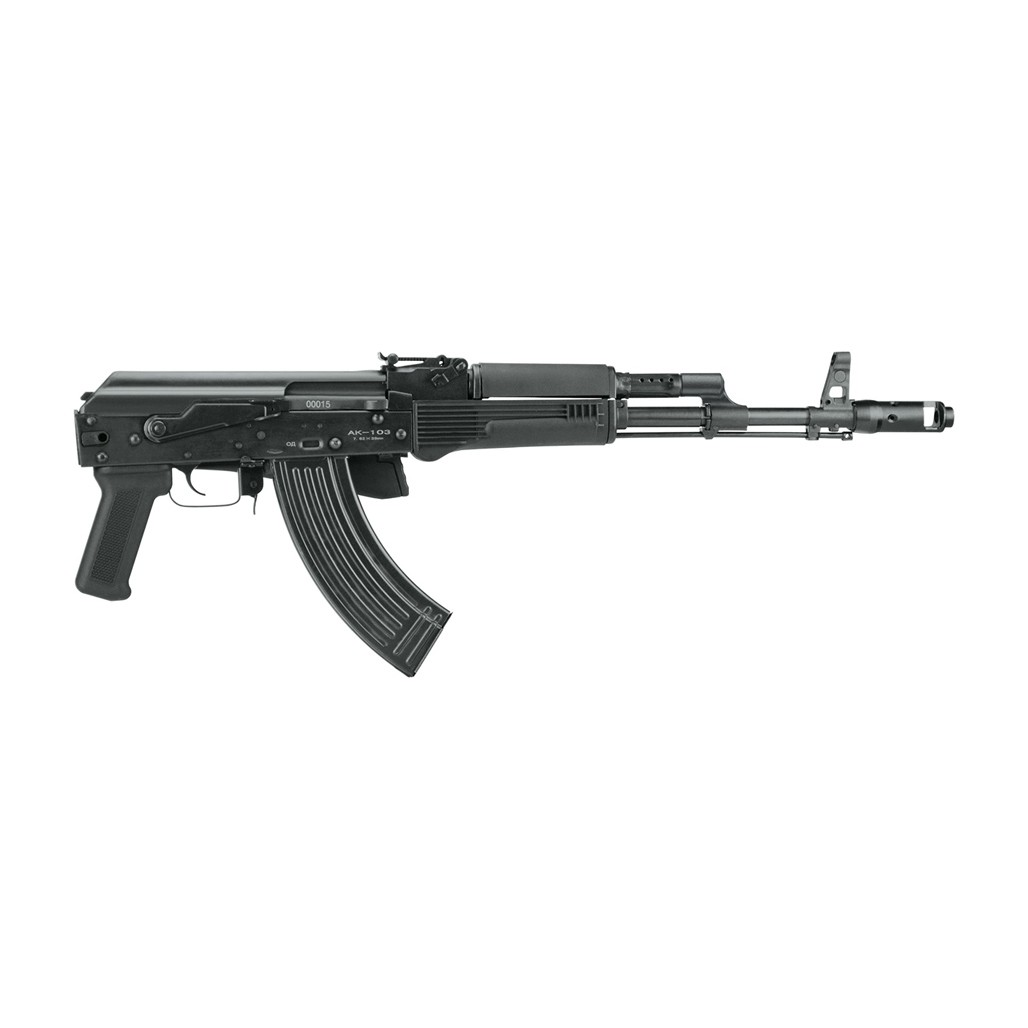Arma Real: (69, 350, 963, 676)
